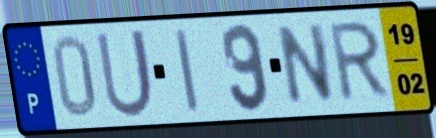0: (50, 32, 100, 121)
9: (220, 20, 272, 115)
I: (173, 26, 202, 116)
N: (276, 20, 337, 109)
R: (328, 18, 394, 106)
U: (93, 25, 157, 121)
